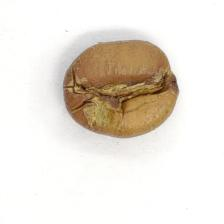NG: (70, 55, 166, 128)
